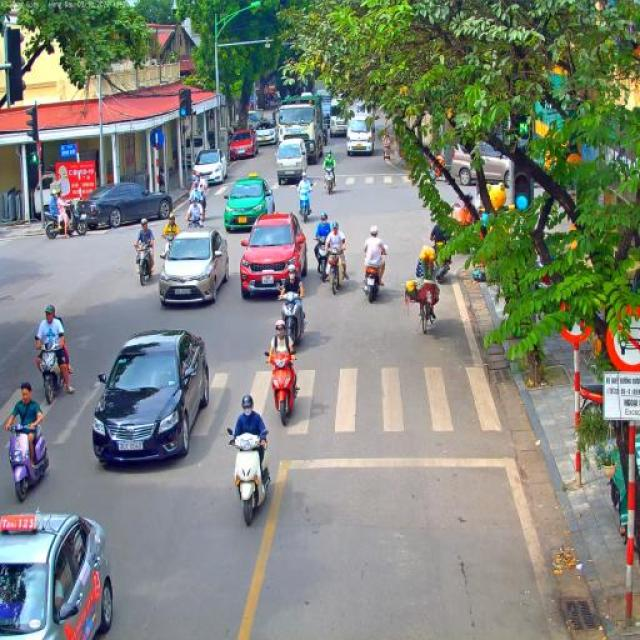car: (91, 326, 211, 466), (0, 507, 115, 640), (240, 210, 309, 300), (157, 228, 229, 308), (76, 181, 174, 230), (222, 172, 276, 233), (450, 138, 512, 190), (275, 137, 309, 185), (191, 148, 228, 187), (345, 116, 375, 156), (228, 128, 258, 162), (254, 120, 278, 148), (248, 110, 262, 130)
motorcycle: (227, 427, 272, 525), (5, 424, 50, 504), (263, 352, 301, 426), (34, 331, 66, 405), (275, 282, 307, 347), (44, 201, 88, 240), (362, 244, 388, 304), (324, 248, 345, 296), (133, 242, 153, 286), (313, 237, 331, 283), (428, 154, 450, 184), (298, 186, 314, 224), (435, 256, 453, 282), (322, 164, 337, 194), (162, 234, 177, 256), (188, 192, 204, 212), (196, 178, 209, 202), (186, 211, 204, 228)
truck: (272, 92, 326, 166), (330, 97, 376, 138), (316, 88, 332, 137)
